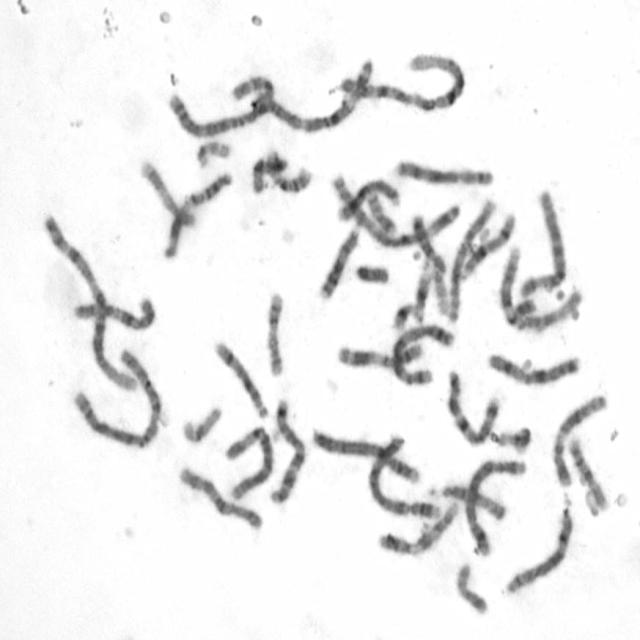A1: (38, 210, 141, 395), (334, 49, 466, 114)
A2: (69, 345, 163, 451), (163, 69, 278, 140)
A3: (229, 55, 379, 135), (335, 168, 461, 247)
B4: (307, 422, 424, 486), (369, 432, 445, 522)
B5: (463, 460, 533, 556), (388, 320, 456, 388)
C10: (174, 462, 264, 532), (71, 293, 164, 331)
C11: (161, 174, 233, 254), (334, 339, 425, 373)
C12: (444, 199, 496, 321), (548, 391, 608, 488)
C6: (517, 187, 567, 298), (223, 420, 276, 502)
C7: (444, 366, 500, 448), (267, 396, 307, 506)
C8: (502, 506, 575, 597), (392, 155, 496, 188)
C9: (376, 496, 460, 558), (497, 243, 537, 327)
D13: (316, 223, 362, 301), (340, 178, 406, 222)
D14: (456, 208, 518, 282), (217, 342, 272, 419)
D15: (512, 286, 585, 335), (438, 480, 508, 522)
E16: (568, 436, 612, 513), (266, 154, 313, 196)
E17: (136, 156, 198, 232), (262, 288, 286, 379)
E18: (408, 210, 448, 276), (248, 148, 286, 195)
F19: (178, 402, 224, 446), (499, 424, 532, 456)
F20: (454, 560, 487, 614), (367, 192, 398, 238)
G21: (410, 266, 434, 324), (389, 298, 418, 332)
G22: (422, 258, 450, 316), (193, 136, 233, 170)
X: (483, 348, 582, 388)
Y: (352, 260, 390, 287)
